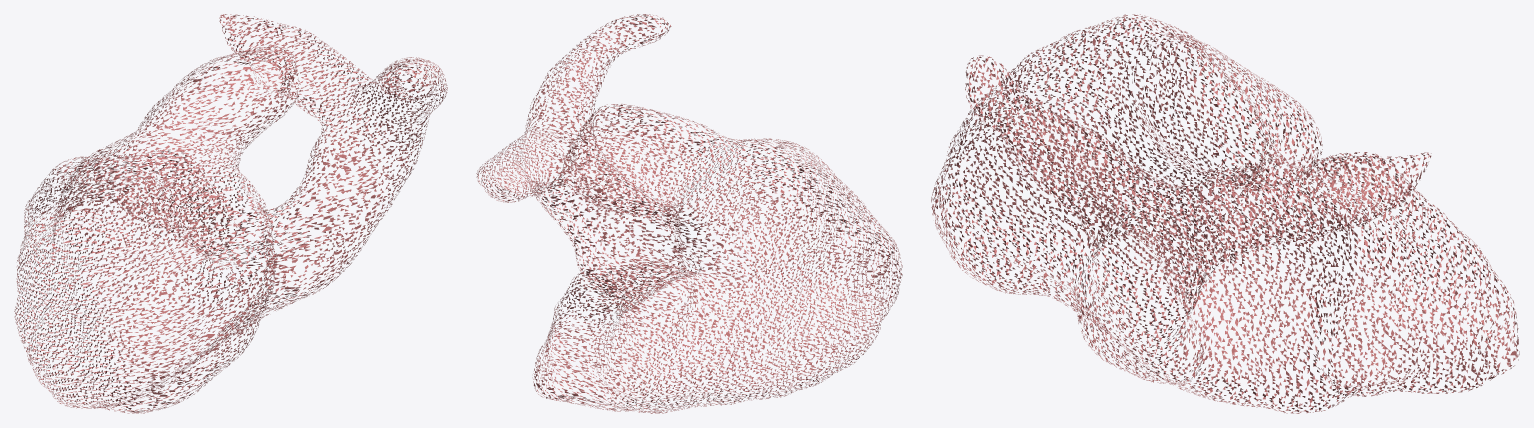
Rendered from heart.glb.
The picture shows the model from 3 angles, left to right: view 1: azimuth 30°, elevation 25°; view 2: azimuth 150°, elevation 25°; view 3: azimuth 270°, elevation 25°; orthographic projection. The views are drawn at different scales.
Bounding box in the file's own units: 120 × 98.7 × 124.
